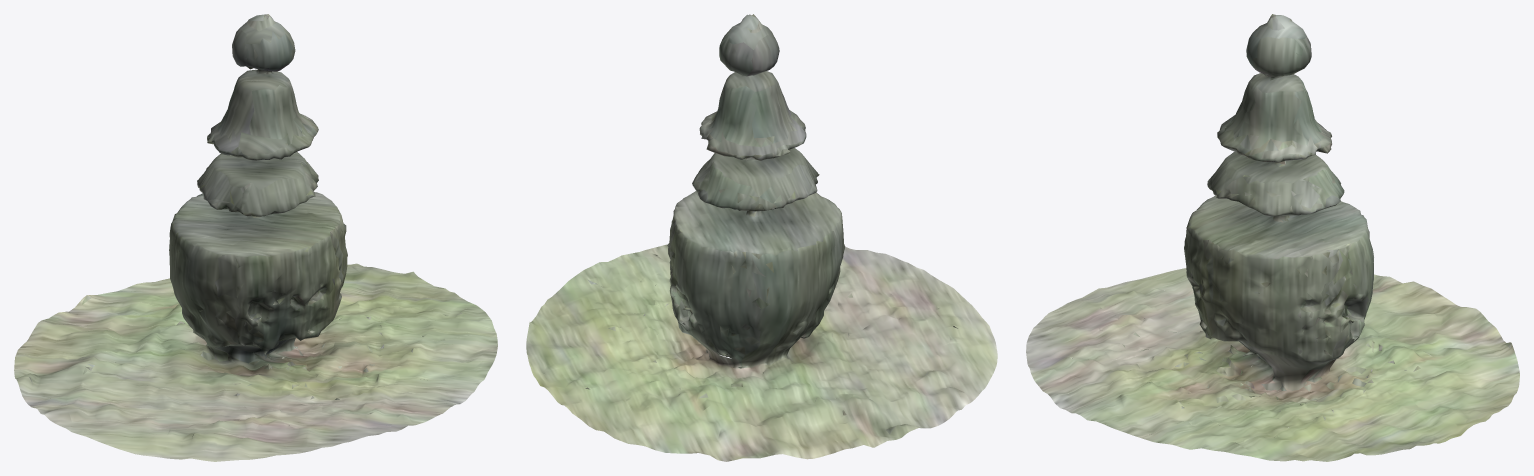
File: topiary.glb
3 views of the same model, side by side, from view 1: azimuth 30°, elevation 25°; view 2: azimuth 150°, elevation 25°; view 3: azimuth 270°, elevation 25° (orthographic). The views are drawn at different scales.
Visible parts, largest first — view 1: low; view 2: low; view 3: low.
Boxes of the visible parts, x1,y1,x2,y2 form: low: [14, 14, 497, 461]; low: [526, 14, 997, 461]; low: [1026, 14, 1519, 461].
Bounding box in the file's own units: 2.46 × 2 × 2.43.
1 material, 1 textured.
